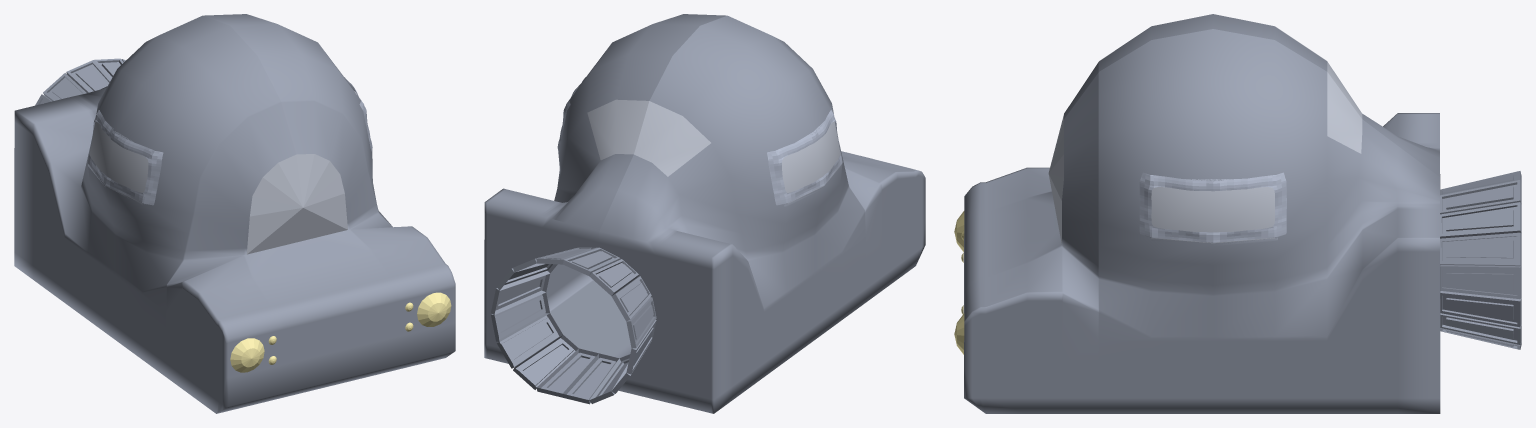
3 views of the same model, side by side, from view 1: azimuth 30°, elevation 25°; view 2: azimuth 150°, elevation 25°; view 3: azimuth 270°, elevation 25° (orthographic). The views are drawn at different scales.
Visible parts, largest first — view 1: Deep Diver I_fbe8f8_mirror, Deep Diver I_fbe8f8, Deep Diver I_092991_mirror, Deep Diver I_092991, Window Guard_mirror, HeadLights Sphere, HeadLights Sphere_mirror; view 2: Deep Diver I_fbe8f8_mirror, Deep Diver I_fbe8f8, Deep Diver I_092991_mirror, Deep Diver I_092991, Window Guard_mirror; view 3: Deep Diver I_fbe8f8, Deep Diver I_fbe8f8_mirror, Deep Diver I_092991, Window Guard.
Part boxes in pixels (x1,y1,x2,y2): Deep Diver I_fbe8f8_mirror: (14,15,340,413); Deep Diver I_fbe8f8: (94,14,455,385); Deep Diver I_092991_mirror: (89,121,303,254); Deep Diver I_092991: (296,154,347,242); Window Guard_mirror: (87,109,163,205); HeadLights Sphere: (405,292,451,331); HeadLights Sphere_mirror: (230,336,276,372); Deep Diver I_fbe8f8_mirror: (563,15,925,413); Deep Diver I_fbe8f8: (484,14,726,397); Deep Diver I_092991_mirror: (634,101,840,203); Deep Diver I_092991: (587,99,649,160); Window Guard_mirror: (767,109,842,205); Deep Diver I_fbe8f8: (964,29,1521,413); Deep Diver I_fbe8f8_mirror: (964,14,1521,279); Deep Diver I_092991: (1048,72,1362,244); Window Guard: (1139,172,1286,242).
Bounding box in the file's own units: 4.27 × 4.69 × 7.49.
